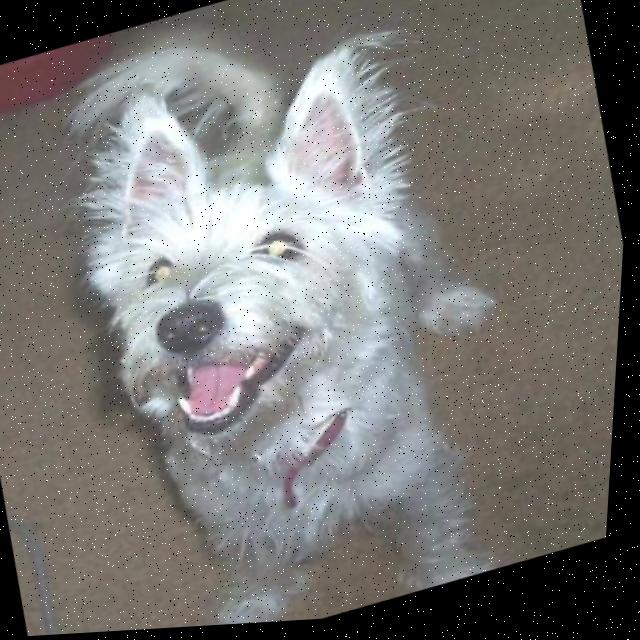dogs: (0, 0, 573, 640)
